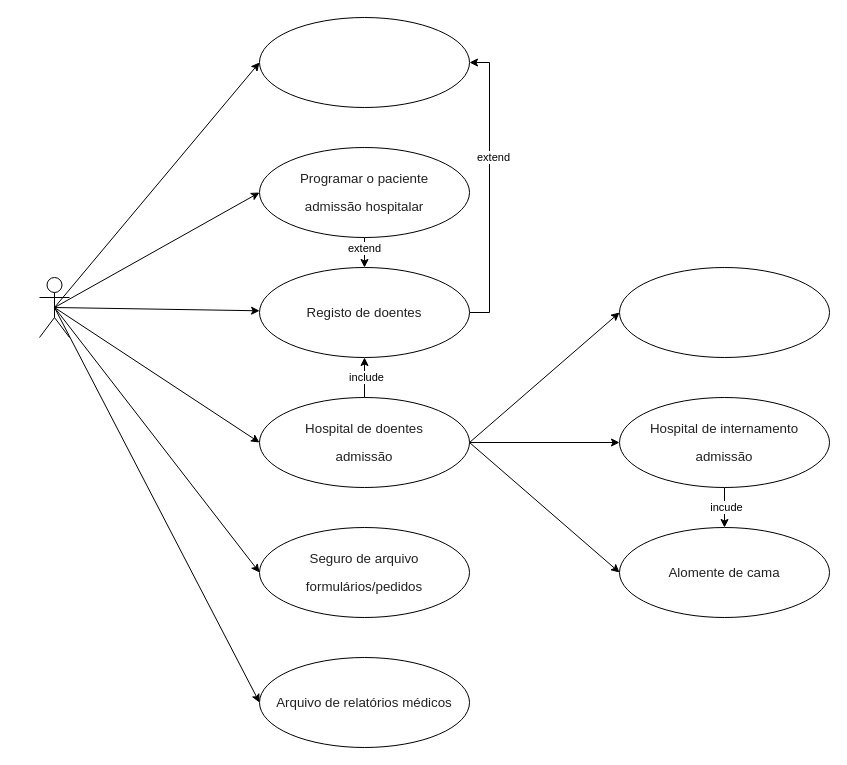
This 847x765 diagram has some shape labels left out. Each missing label, with the box of its shape:
Hospital ambulatorial admissão: (618, 266, 830, 358)
Programar o paciente nomeação: (258, 16, 470, 108)
Recepcionista: (38, 276, 70, 338)
